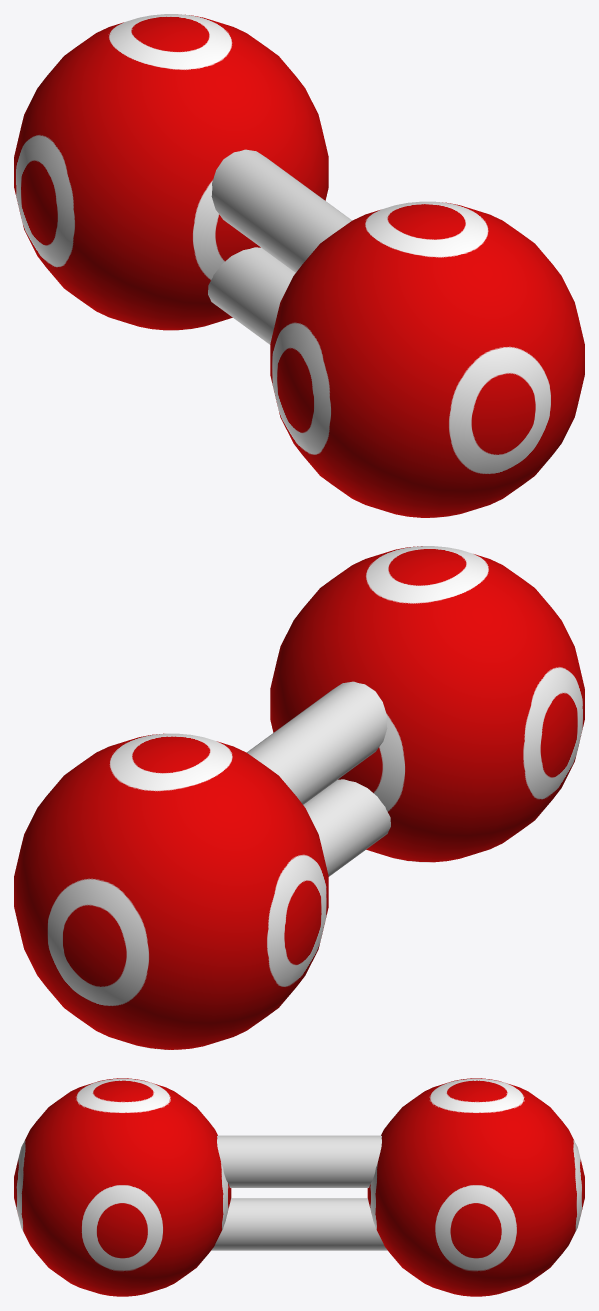
The model's file is O2_tex.FBX.
3 views of the same model, one above another, from view 1: azimuth 30°, elevation 25°; view 2: azimuth 150°, elevation 25°; view 3: azimuth 270°, elevation 25° (orthographic). The views are drawn at different scales.
Parts seen in each view (by area): view 1: H1, O1, Cylinder002, Cylinder001; view 2: O1, H1, Cylinder002, Cylinder001; view 3: H1, O1, Cylinder002, Cylinder001.
Boxes of the visible parts, box(x1,y1,x2,y2) form: H1: box(270, 201, 584, 517); O1: box(14, 14, 328, 330); Cylinder002: box(211, 149, 351, 272); Cylinder001: box(208, 247, 295, 344); O1: box(14, 733, 328, 1049); H1: box(270, 546, 584, 862); Cylinder002: box(247, 681, 387, 804); Cylinder001: box(303, 779, 390, 876); H1: box(14, 1078, 231, 1296); O1: box(367, 1078, 584, 1296); Cylinder002: box(217, 1135, 381, 1187); Cylinder001: box(211, 1198, 387, 1250).
Size of the model in its own units: 32.85 by 33.21 by 86.8.
1 material, 1 textured.
